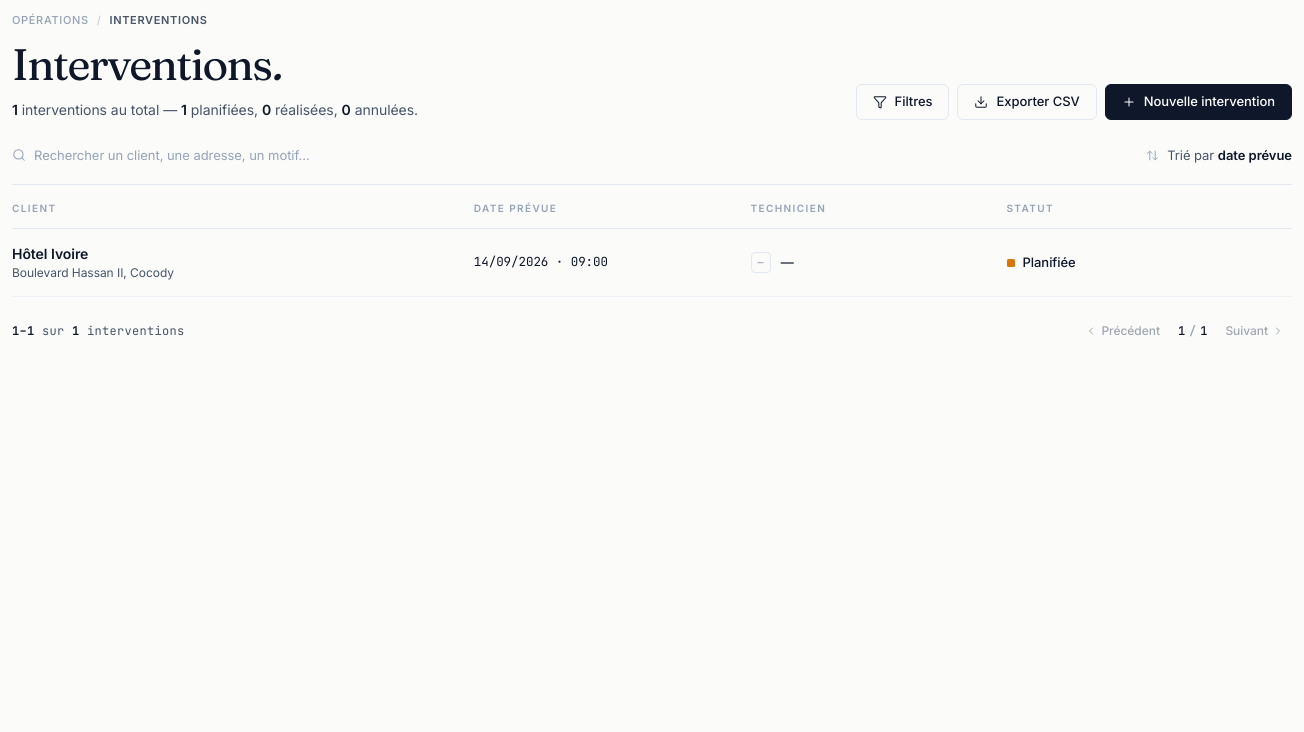
Test: InterventionsListe › filtre par statut via le selecteur et reinitialise avec les autres filtres
Check: the text "Hôtel Ivoire" is shown, box [12,245,88,262]
What coordinates should you click on to do the following:
click the button "Filtres"
I would click on:
 (902, 102)
Its box is [856,84,949,120].
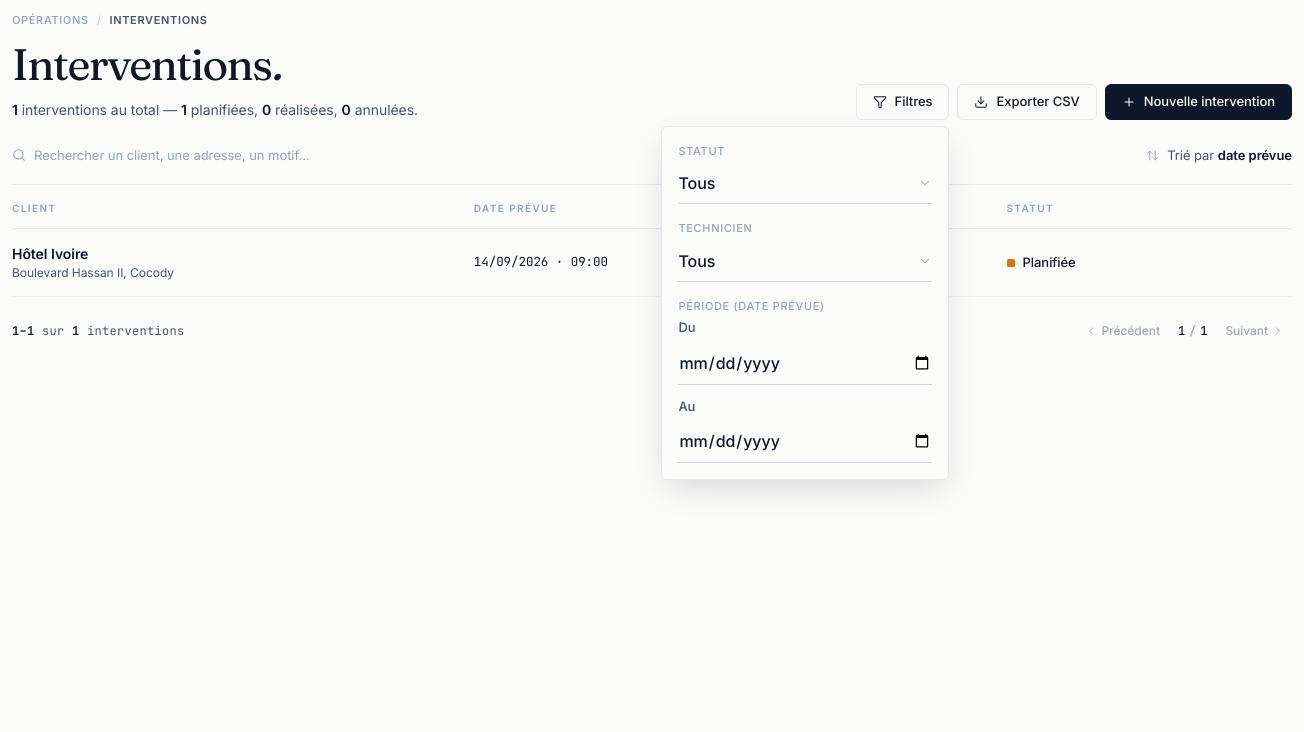
What coordinates should you click on to do the following:
click the dropdown named "Filtrer par statut"
I would click on:
 (806, 184)
Its box is [678,163,932,204].
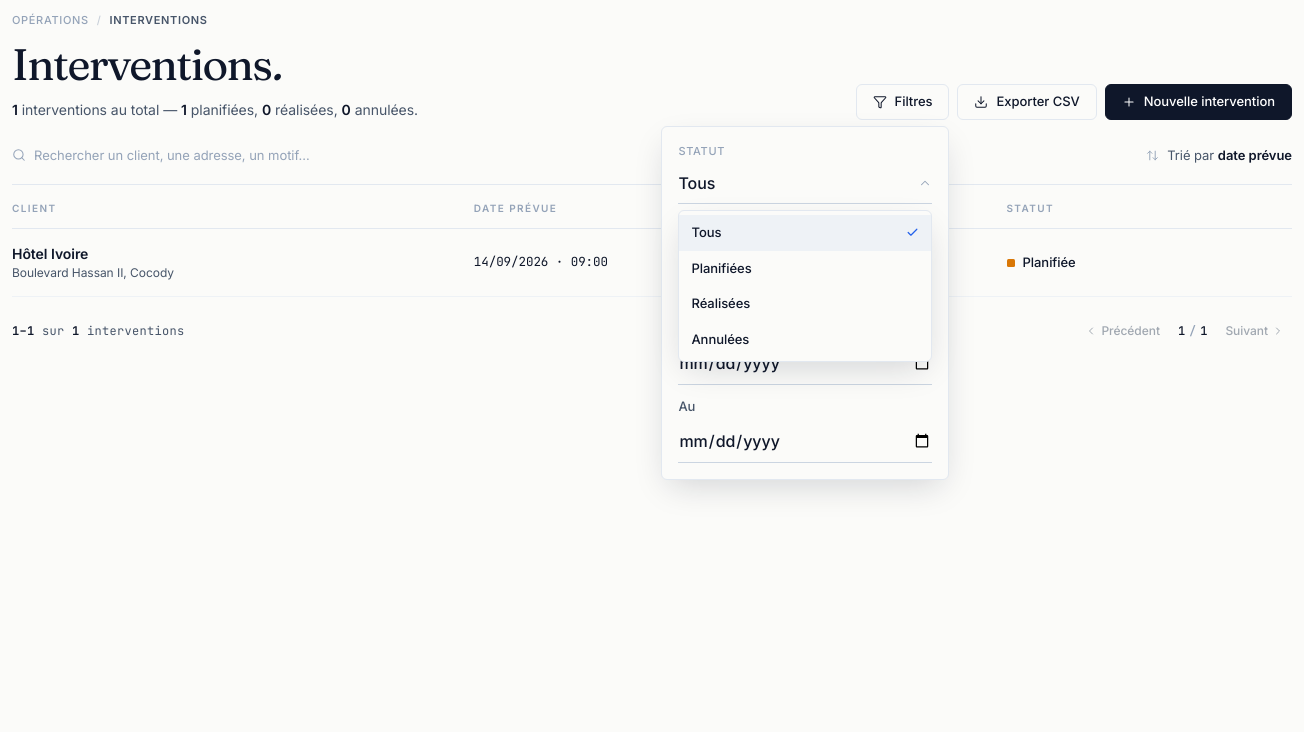
What coordinates should you click on to do the following:
click the option "Réalisées"
I would click on:
 (721, 303)
Its box is [692,295,750,311].
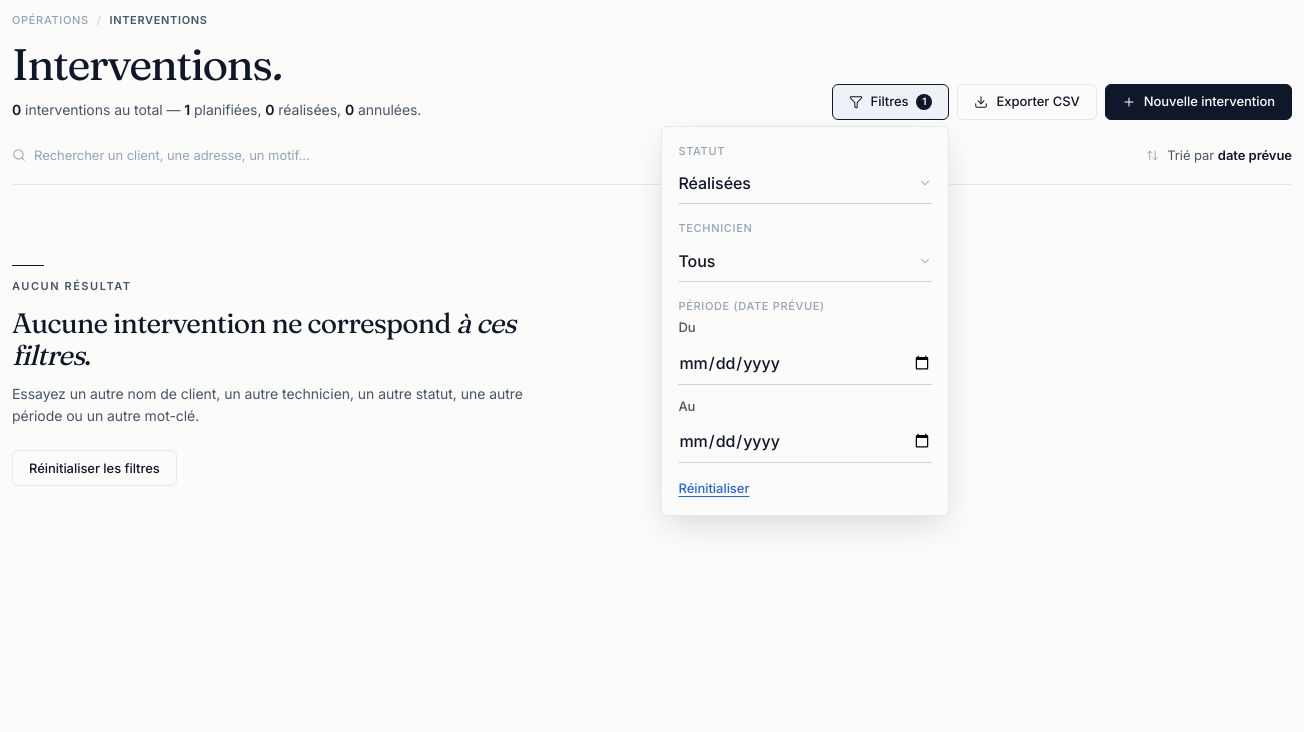
Check: the heading "Aucune intervention ne correspond à ces filtres." is shown, box [12,307,532,371]
What coordinates should you click on to do the following:
click the button "Réinitialiser les filtres"
I would click on:
 (94, 468)
Its box is [12,450,177,486].
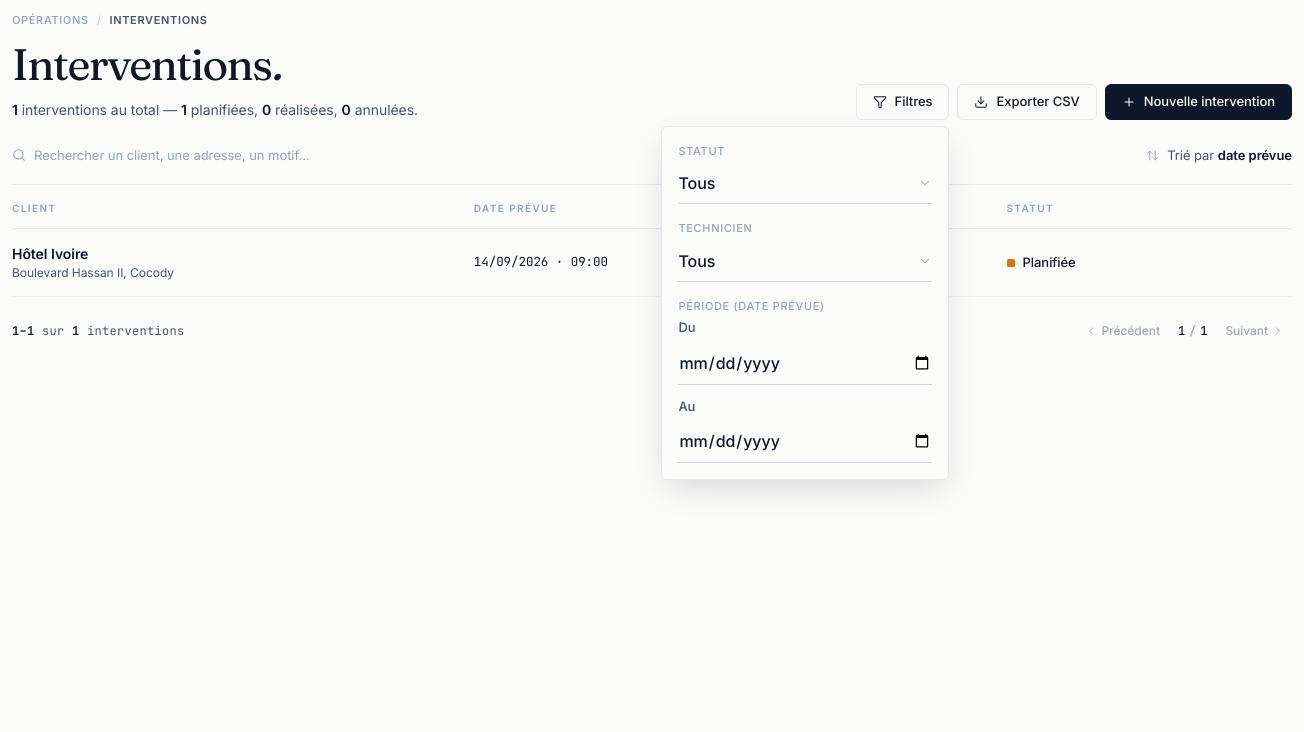
Check: the text "Hôtel Ivoire" is shown, box [12,245,88,262]
